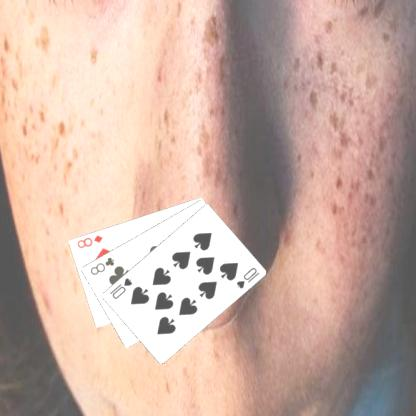10S: (235, 264, 262, 290), (108, 275, 136, 300)
8C: (89, 254, 117, 277)
8D: (76, 232, 106, 250)
